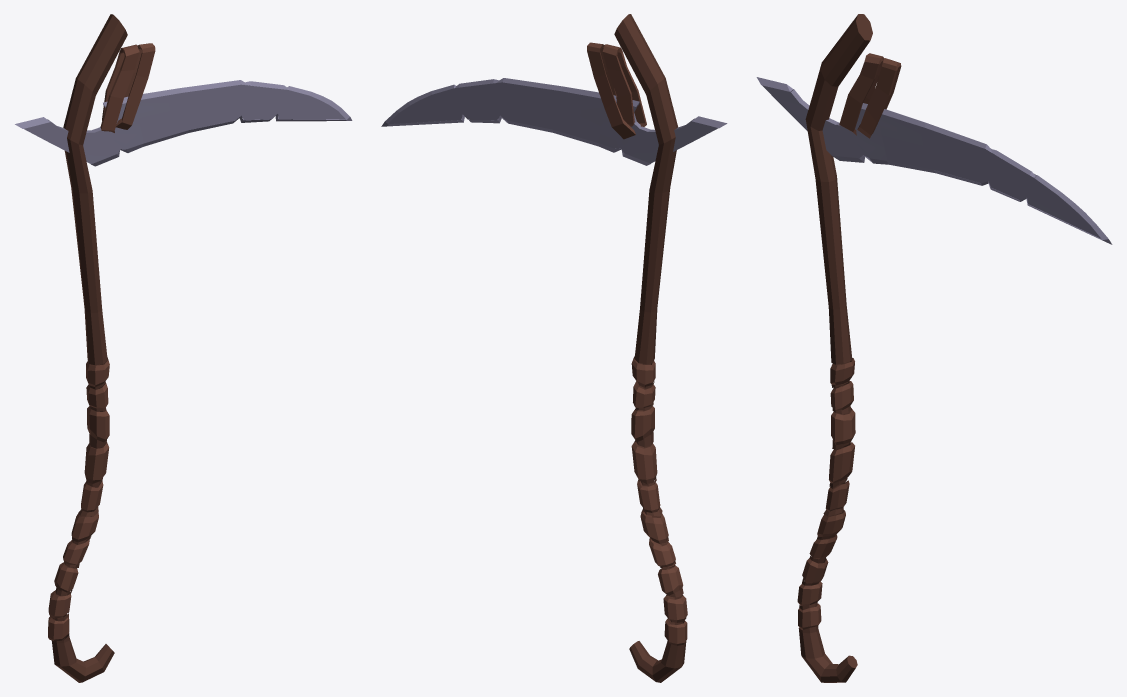
The model's file is armory-necromancer-3.glb.
3 renders of one model, left to right at view 1: azimuth 30°, elevation 25°; view 2: azimuth 150°, elevation 25°; view 3: azimuth 330°, elevation 25°, orthographic. The views are drawn at different scales.
Visible parts, largest first — view 1: Scythe_Cylinder.005; view 2: Scythe_Cylinder.005; view 3: Scythe_Cylinder.005.
Boxes of the visible parts, box(x1,y1,x2,y2) form: Scythe_Cylinder.005: box(15, 14, 352, 682); Scythe_Cylinder.005: box(381, 14, 727, 682); Scythe_Cylinder.005: box(756, 14, 1112, 682).
Size of the model in its own units: 3.6 by 6.64 by 0.3071.
